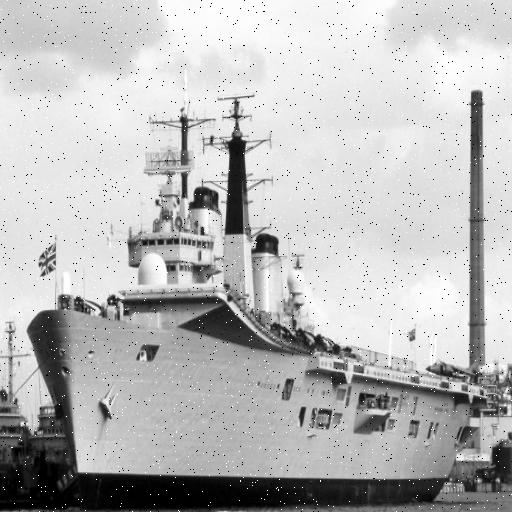Portanaves: (24, 77, 489, 509)
